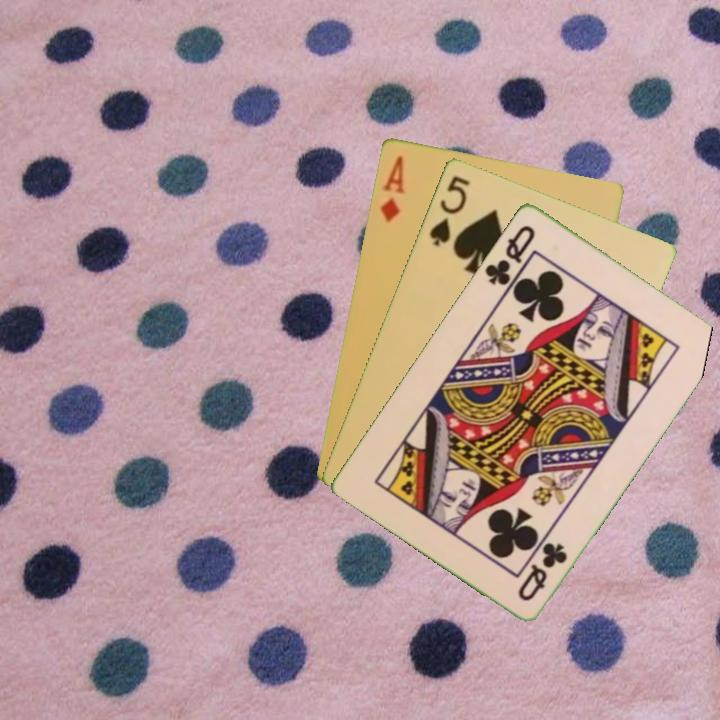5s: (425, 171, 473, 249)
Ad: (376, 151, 407, 225)
Qc: (481, 220, 538, 288), (514, 538, 571, 604)
